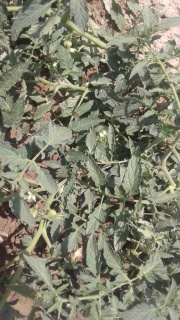tomato diseased leaf: (70, 247, 84, 264)
tomato plant: (7, 8, 173, 312)
